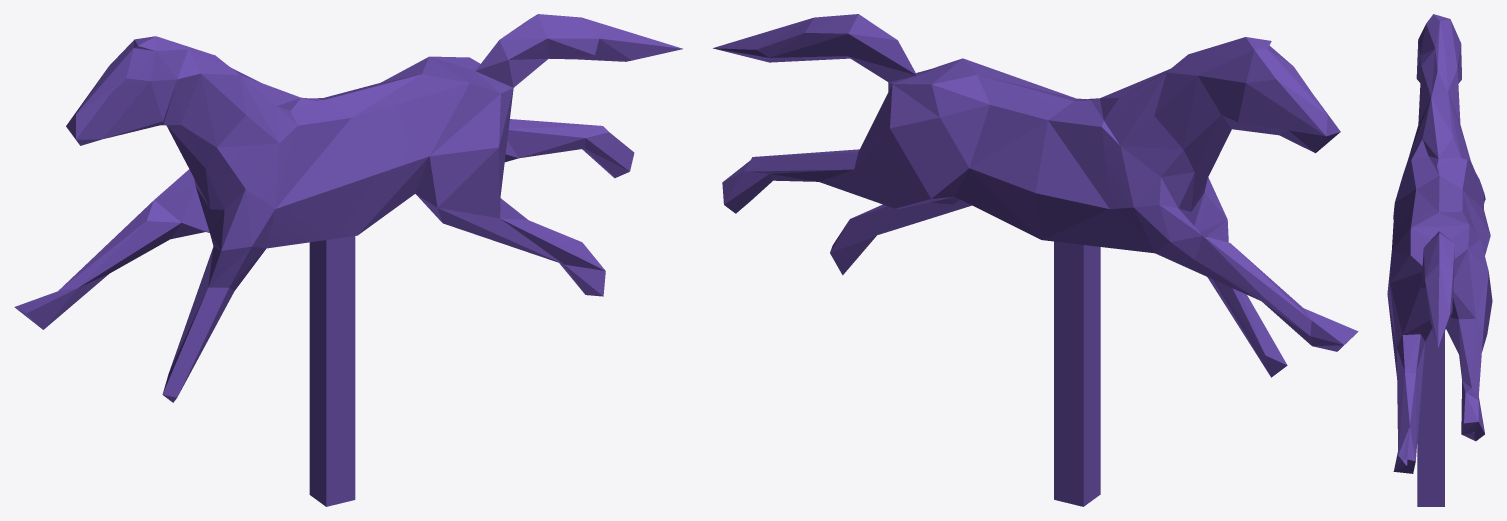
Rendered from SM_Prop_Horse_Game_01_Horse_05.obj.
The picture shows the model from 3 angles, left to right: view 1: azimuth 30°, elevation 25°; view 2: azimuth 150°, elevation 25°; view 3: azimuth 270°, elevation 25°; orthographic projection. The views are drawn at different scales.
Parts seen in each view (by area): view 1: SM_Prop_Horse_Game_01_Horse_05_0; view 2: SM_Prop_Horse_Game_01_Horse_05_0; view 3: SM_Prop_Horse_Game_01_Horse_05_0.
Part boxes in pixels (box(x1,y1,x2,y2)): SM_Prop_Horse_Game_01_Horse_05_0: box(14, 14, 682, 506); SM_Prop_Horse_Game_01_Horse_05_0: box(713, 14, 1358, 506); SM_Prop_Horse_Game_01_Horse_05_0: box(1387, 14, 1492, 506).
Size of the model in its own units: 0.3008 by 0.2217 by 0.0514.
Materials: 1 (1 with a texture image).
